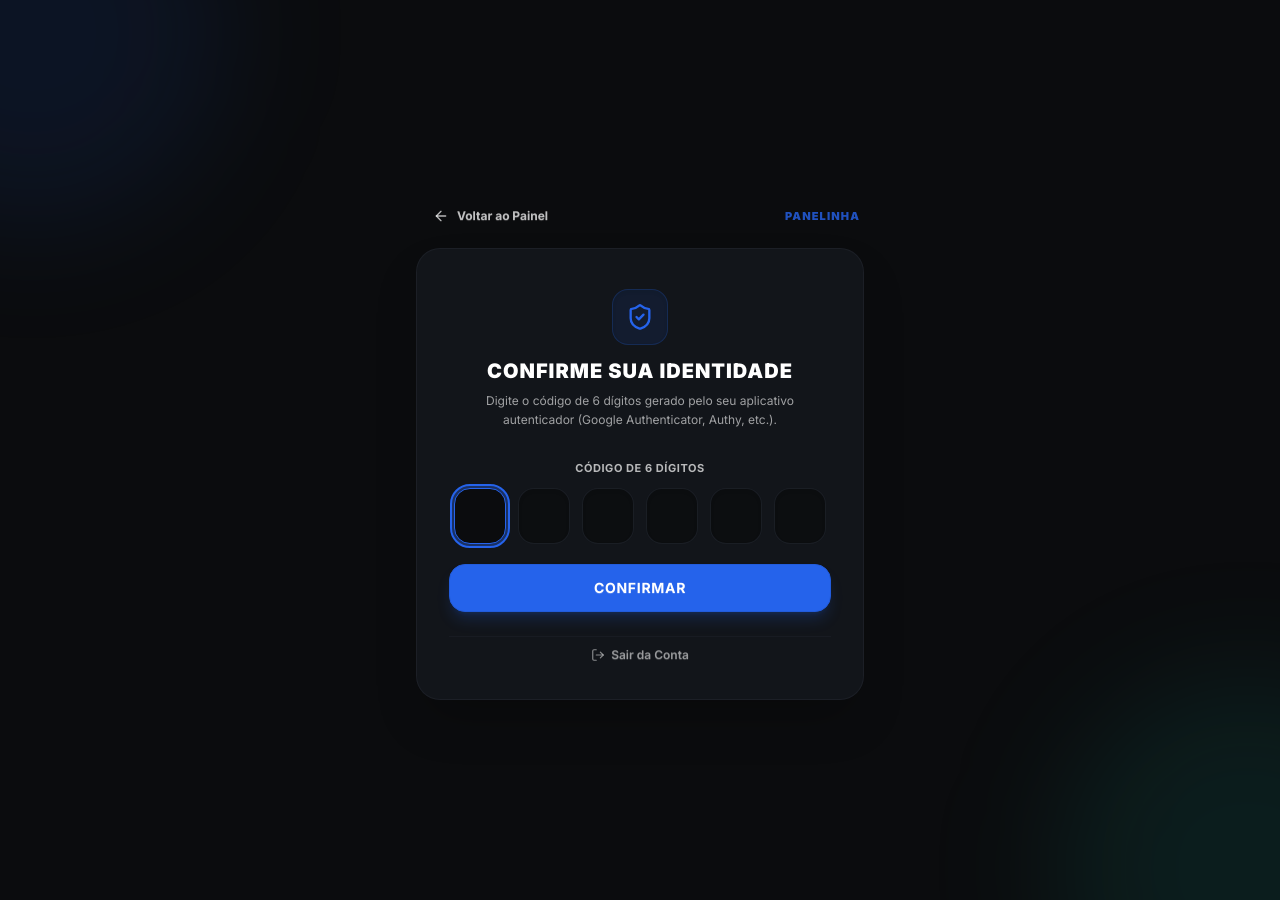
it: MfaChallengePage › shows a recoverable error for an invalid challenge code
Step 1. Type "000000" into the field labelled "Código de 6 dígitos" → (480, 516), box x1=454 y1=488 x2=506 y2=544
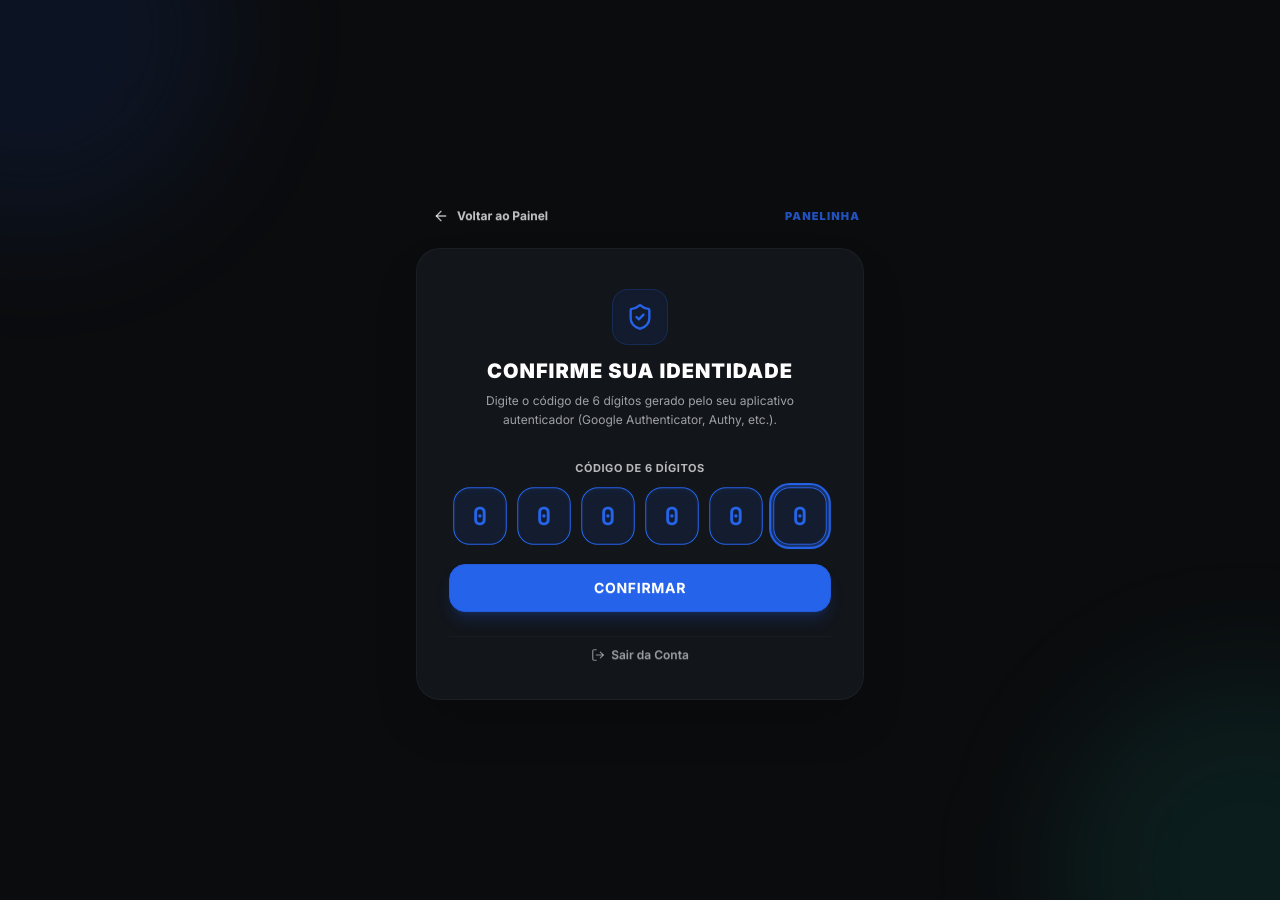
Step 2. Click the button "Confirmar" → (640, 588), box x1=449 y1=564 x2=831 y2=612
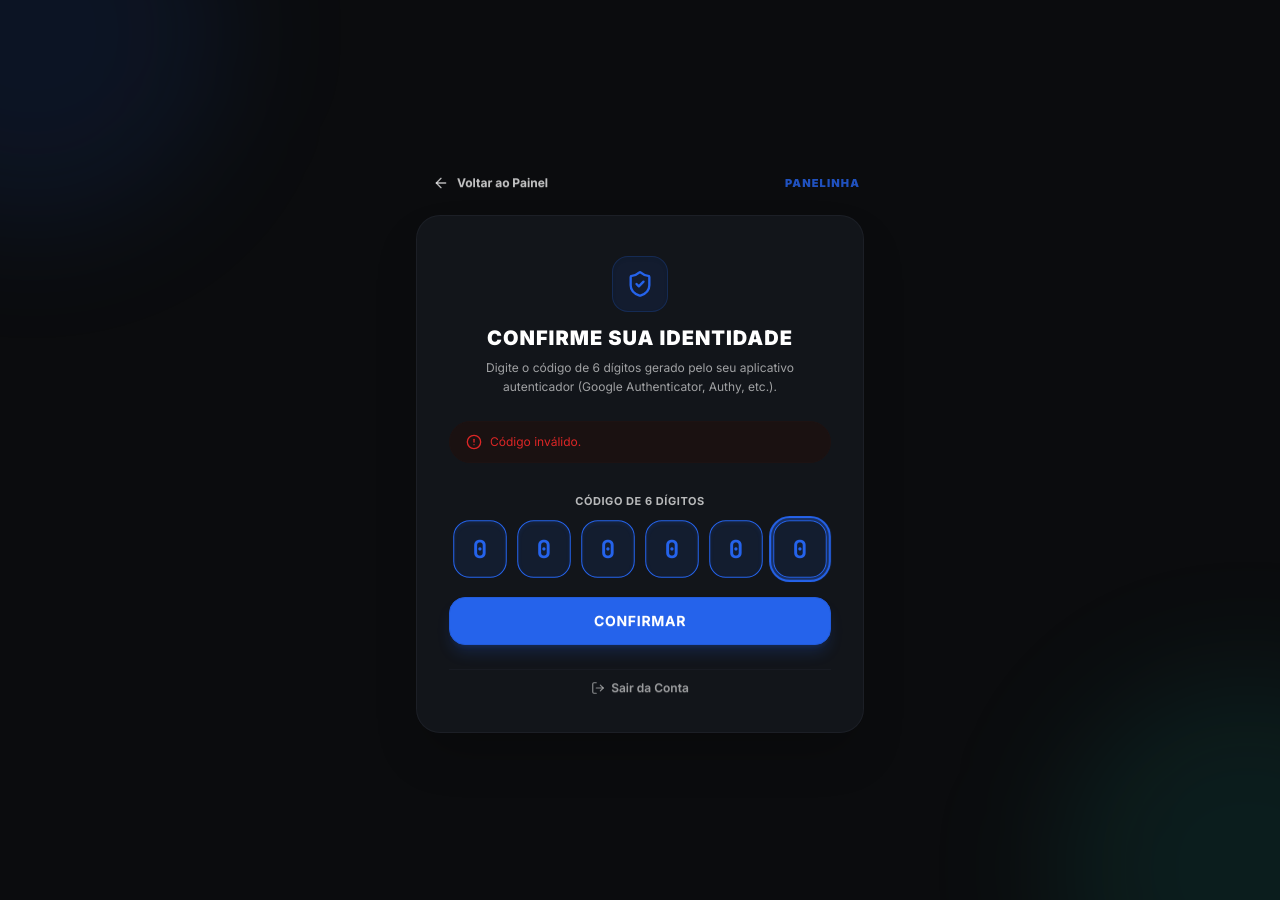
Expected: the field labelled "Código de 6 dígitos" is shown, x1=453 y1=521 x2=507 y2=578
Expected: the message reads "Código inválido.", x1=490 y1=434 x2=581 y2=449
